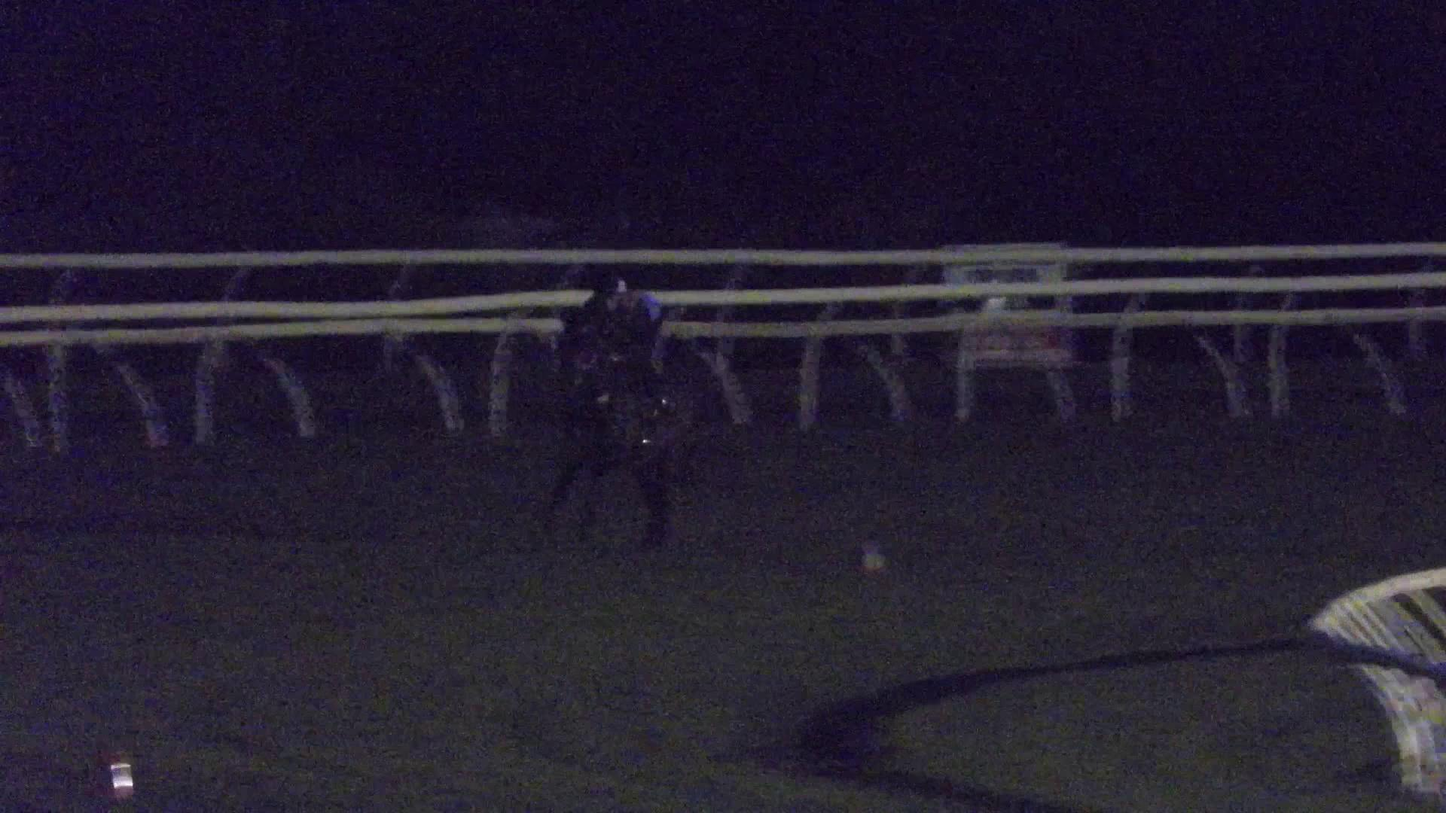racing-horse: (515, 201, 734, 604)
